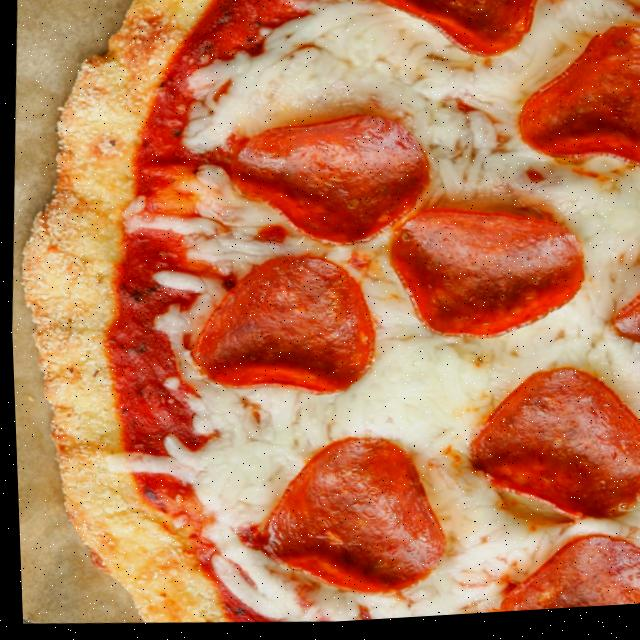pepperoni: (230, 429, 449, 606), (198, 104, 428, 249), (379, 199, 588, 350), (458, 362, 640, 533), (182, 252, 375, 403), (510, 22, 640, 176), (303, 0, 547, 71), (480, 531, 640, 618), (599, 249, 640, 381)
pizza: (0, 0, 640, 640)
